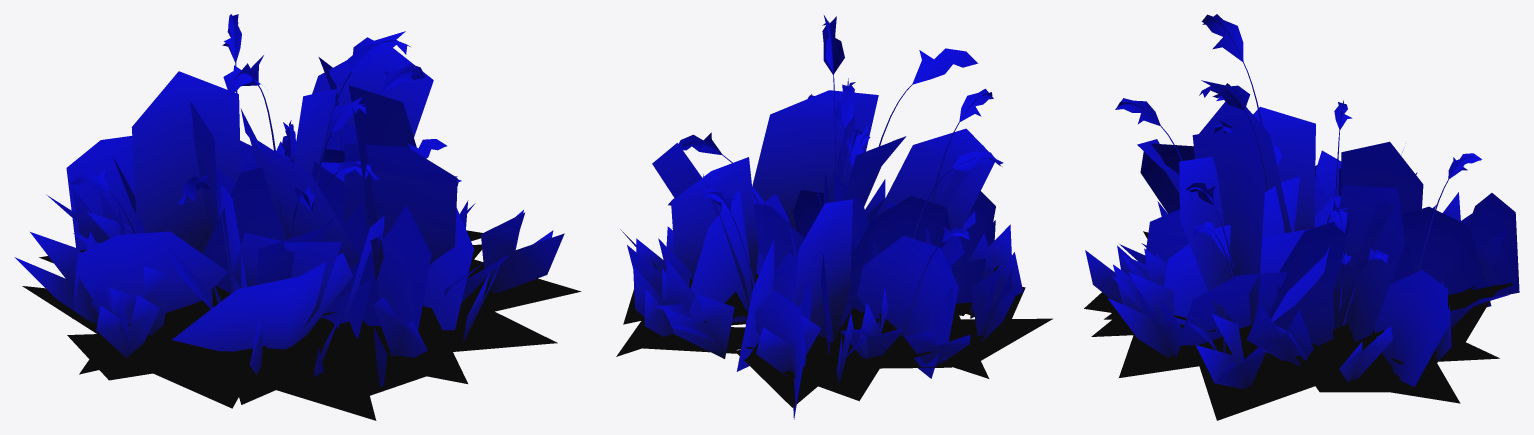
File: SM_WildGrass_M_02.fbx
3 views of the same model, side by side, from view 1: azimuth 30°, elevation 25°; view 2: azimuth 150°, elevation 25°; view 3: azimuth 270°, elevation 25° (orthographic). The views are drawn at different scales.
Parts seen in each view (by area): view 1: SM_WildGrass_M_02_LOD0; view 2: SM_WildGrass_M_02_LOD0; view 3: SM_WildGrass_M_02_LOD0.
Part boxes in pixels (x1,y1,x2,y2): SM_WildGrass_M_02_LOD0: (14, 14, 581, 420); SM_WildGrass_M_02_LOD0: (616, 15, 1052, 419); SM_WildGrass_M_02_LOD0: (1084, 14, 1519, 420).
Bounding box in the file's own units: 144 × 136 × 96.22.
